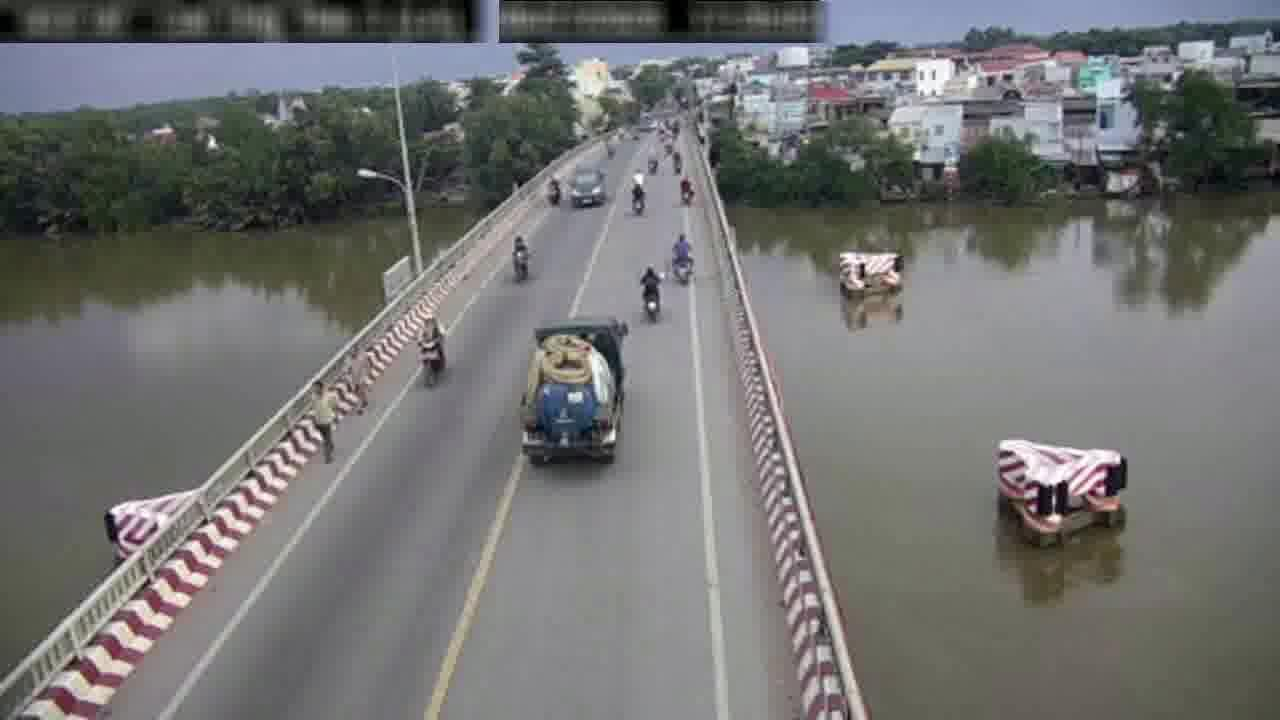8: (508, 304, 629, 472)
container: (566, 159, 608, 212)
motorbike: (417, 310, 447, 391), (671, 229, 698, 289), (639, 261, 662, 323), (507, 232, 532, 284)
